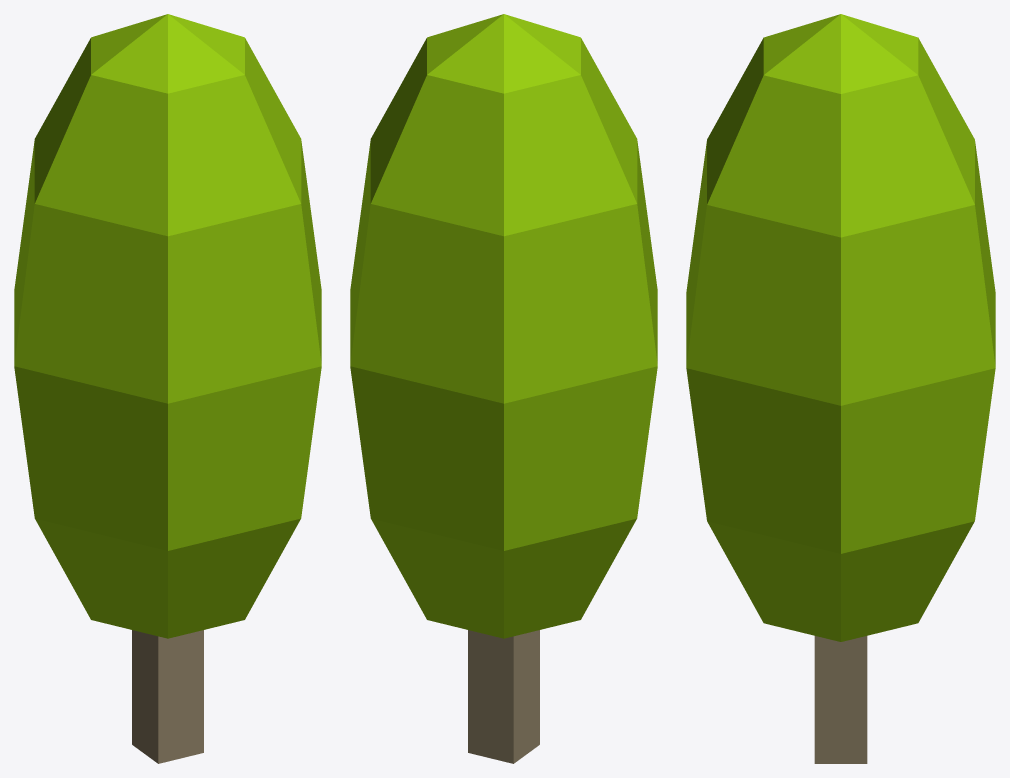
Rendered from tree_cylinder_1.fbx.
The picture shows the model from 3 angles, left to right: view 1: azimuth 30°, elevation 25°; view 2: azimuth 150°, elevation 25°; view 3: azimuth 270°, elevation 25°; orthographic projection.
Visible parts, largest first — view 1: tree_cylinder_1; view 2: tree_cylinder_1; view 3: tree_cylinder_1.
Boxes of the visible parts, box(x1,y1,x2,y2) form: tree_cylinder_1: box(14, 14, 321, 763); tree_cylinder_1: box(350, 14, 657, 763); tree_cylinder_1: box(686, 14, 995, 763).
Size of the model in its own units: 82.94 by 189 by 71.83.
